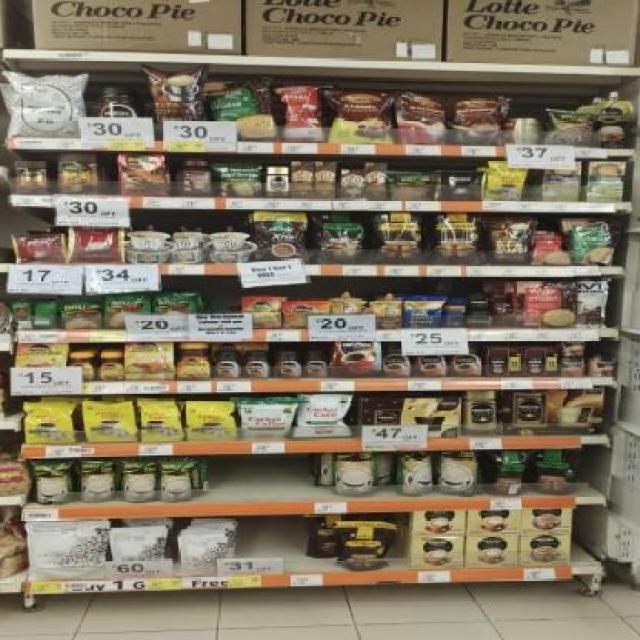Coffee: (334, 339, 383, 378), (127, 343, 175, 382), (466, 392, 496, 436), (284, 300, 330, 328), (242, 297, 283, 328), (415, 342, 447, 378), (180, 343, 210, 380), (450, 342, 482, 376), (383, 342, 411, 378), (98, 352, 125, 381), (266, 167, 289, 199), (70, 352, 96, 380), (246, 351, 272, 378), (303, 351, 328, 378), (215, 351, 239, 378), (276, 351, 300, 378), (468, 292, 492, 310), (467, 312, 493, 328)
